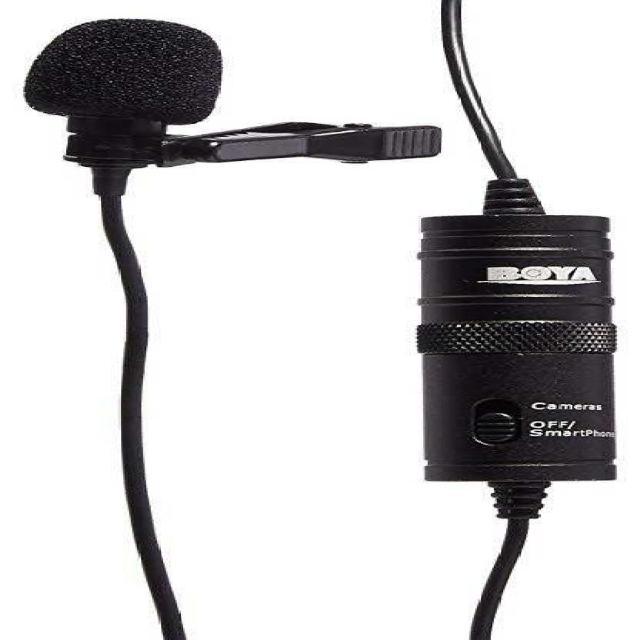microphone: (24, 20, 229, 179)
